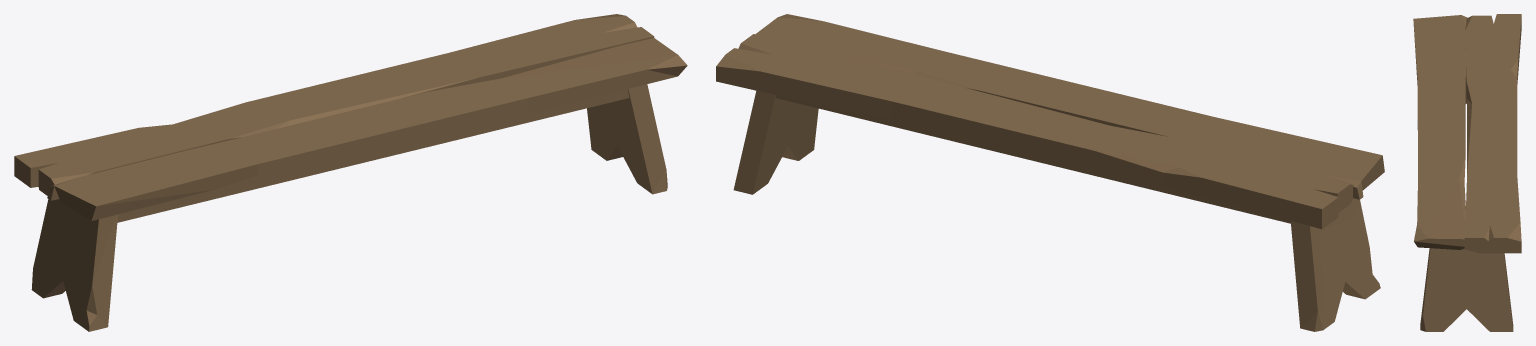
File: castle_bench.gltf
The picture shows the model from 3 angles, left to right: view 1: azimuth 30°, elevation 25°; view 2: azimuth 150°, elevation 25°; view 3: azimuth 270°, elevation 25°; orthographic projection. The views are drawn at different scales.
Parts seen in each view (by area): view 1: castle_bench; view 2: castle_bench; view 3: castle_bench.
Boxes of the visible parts, left/top/right/bottom form: castle_bench: left=14, top=14, right=687, bottom=331; castle_bench: left=716, top=14, right=1384, bottom=331; castle_bench: left=1413, top=14, right=1521, bottom=331.
Size of the model in its own units: 2.92 by 0.5957 by 0.594.
Materials: 1 (1 with a texture image).
